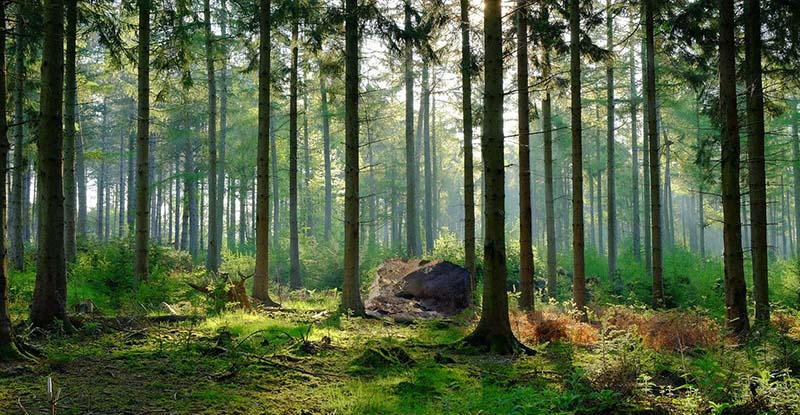Rocks: (364, 247, 486, 339)
